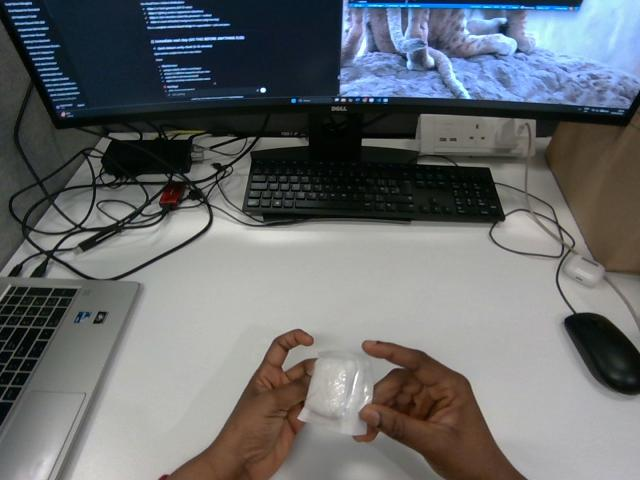gauze: (298, 351, 373, 434)
